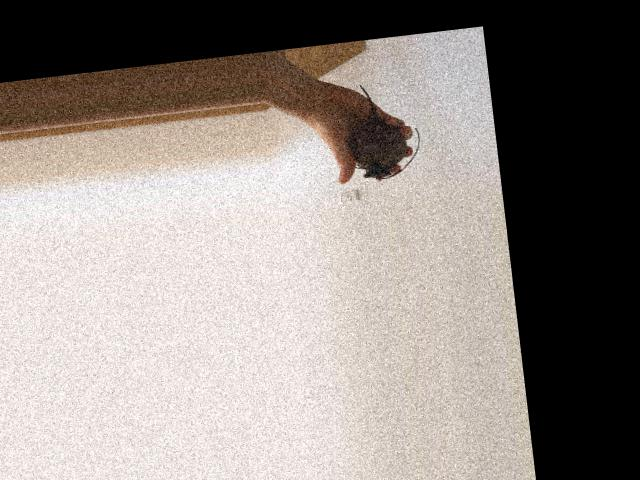beet: (345, 78, 425, 183)
